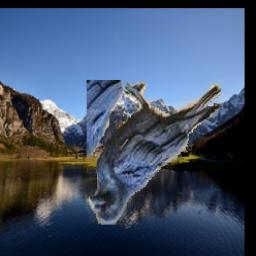Crow: (88, 81, 225, 226)
